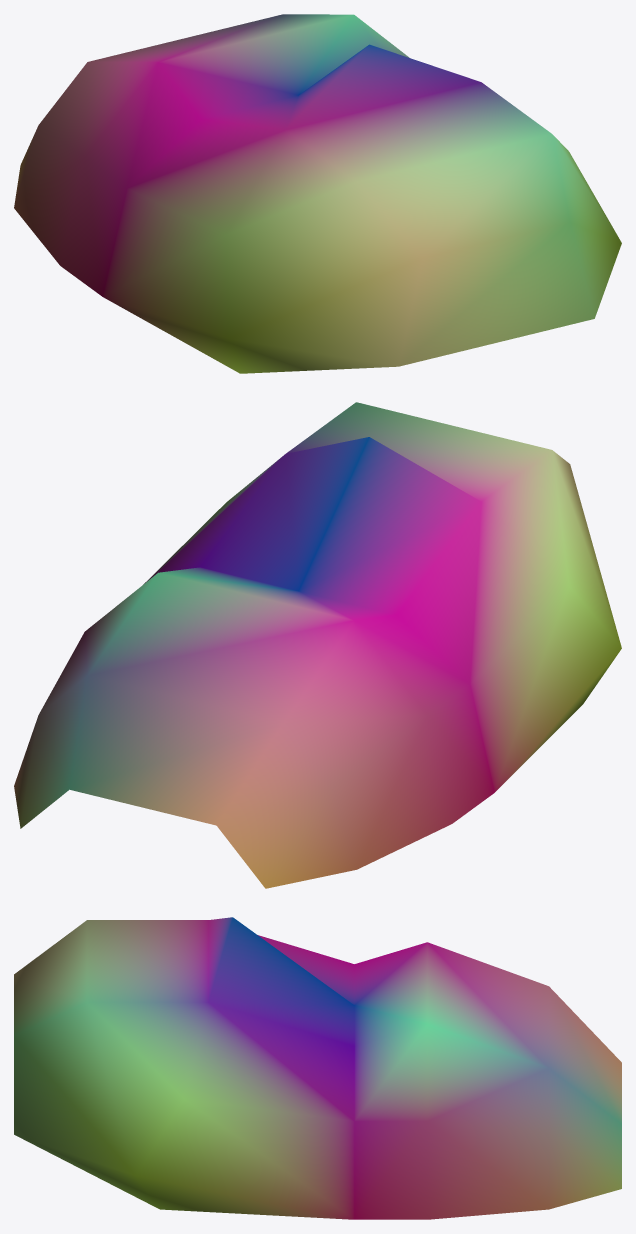
3 renders of one model, top to bottom at view 1: azimuth 30°, elevation 25°; view 2: azimuth 150°, elevation 25°; view 3: azimuth 270°, elevation 25°, orthographic. The views are drawn at different scales.
Parts seen in each view (by area): view 1: part; view 2: part; view 3: part.
Boxes of the visible parts, left/top/right/bottom form: part: left=14, top=14, right=621, bottom=373; part: left=14, top=402, right=621, bottom=888; part: left=14, top=917, right=621, bottom=1219.
Bounding box in the file's own units: 16 × 10 × 25.
